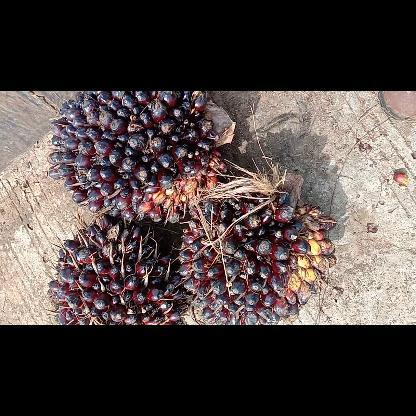TBS mentah: (46, 91, 242, 225), (178, 170, 338, 324), (44, 212, 186, 324)
